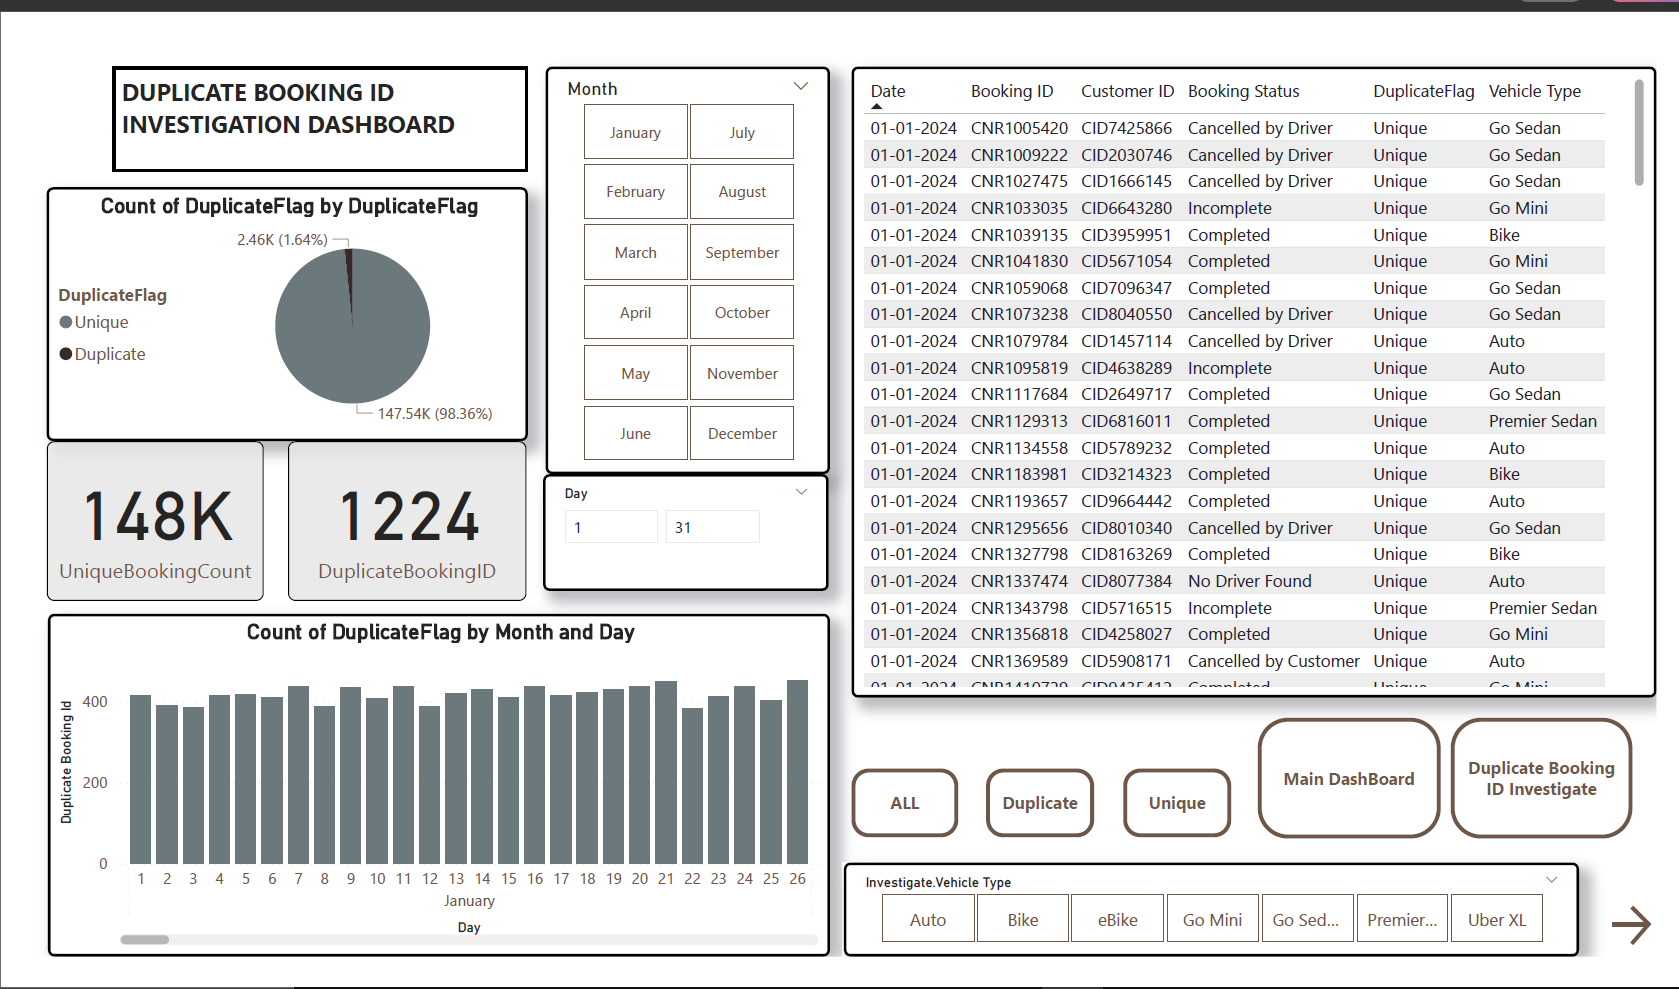

The dashboard page shown, as its layout file describes it:
{"tool":"powerbi","page":{"name":"Duplicate BookingID","canvas":[1280,720],"ordinal":5},"visuals":[{"type":"pieChart","fields":{"Category":["rideBookings.DuplicateFlag"],"Y":["CountNonNull(rideBookings.DuplicateFlag)"]},"box":[12.3,113.9,378.7,200.3],"z":0},{"type":"card","fields":{"Values":["rideBookings.DuplicateBookingID"]},"box":[201.7,314.2,188,126.2],"z":1000},{"type":"card","fields":{"Values":["rideBookings.UniqueBookingCount"]},"box":[12.3,314.2,170.2,126.2],"z":2000},{"type":"clusteredColumnChart","fields":{"Y":["CountNonNull(rideBookings.DuplicateFlag)"],"Category":["rideBookings.Date.Variation.Date Hierarchy.Month","rideBookings.Date.Variation.Date Hierarchy.Day"]},"box":[12.7,450.3,616.4,270.2],"z":3000},{"type":"slicer","fields":{"Values":["rideBookings.Date.Variation.Date Hierarchy.Month"]},"box":[404.6,19,224.5,320.9],"z":4000},{"type":"slicer","fields":{"Values":["rideBookings.Date.Variation.Date Hierarchy.Day1"]},"box":[403.4,340.3,225,91.9],"z":5000},{"type":"tableEx","title":"Main Dashboard Table","fields":{"Values":["rideBookings.Date","rideBookings.Booking ID","rideBookings.Customer ID","rideBookings.Booking Status","rideBookings.DuplicateFlag","rideBookings.Vehicle Type"]},"box":[645.6,19,634.2,497.2],"z":6000},{"type":"actionButton","box":[645.6,572.1,84.8,54.3],"z":7000},{"type":"actionButton","box":[751.9,572.1,84.8,54.3],"z":8000},{"type":"actionButton","box":[860.4,572.1,84.8,54.3],"z":9000},{"type":"slicer","fields":{"Values":["rideBookings.Vehicle Type"]},"box":[638.8,645.6,580,74.6],"z":10000},{"type":"actionButton","title":"Main Dashboard Button","box":[966,532.4,144.1,94.7],"z":12000},{"type":"actionButton","title":"Investigate Duplicate","box":[1118.4,532.4,142.7,94.7],"z":13000},{"type":"slicer","fields":{"Values":["BookingID Audit.Investigate.Vehicle Type"]},"box":[640,645.6,578.9,74.6],"z":15000},{"type":"actionButton","box":[1239.1,672.4,41.2,46.7],"z":16000},{"type":"textbox","box":[64.5,19.2,326.6,82.3],"z":17000}]}

Visuals, with their boxes on the page's 1280x720 design canvas (x1, y1, x2, y2). These are canvas units, not pixel positions in the 1679x989 screenshot, which may show the page scaled, cropped or inside an application window:
pieChart - rideBookings.DuplicateFlag x CountNonNull(rideBookings.DuplicateFlag): l=12, t=114, r=391, b=314
card - rideBookings.DuplicateBookingID: l=202, t=314, r=390, b=440
card - rideBookings.UniqueBookingCount: l=12, t=314, r=182, b=440
clusteredColumnChart - CountNonNull(rideBookings.DuplicateFlag) x rideBookings.Date.Variation.Date Hierarchy.Month: l=13, t=450, r=629, b=720
slicer - rideBookings.Date.Variation.Date Hierarchy.Month: l=405, t=19, r=629, b=340
slicer - rideBookings.Date.Variation.Date Hierarchy.Day1: l=403, t=340, r=628, b=432
"Main Dashboard Table" tableEx: l=646, t=19, r=1280, b=516
actionButton: l=646, t=572, r=730, b=626
actionButton: l=752, t=572, r=837, b=626
actionButton: l=860, t=572, r=945, b=626
slicer - rideBookings.Vehicle Type: l=639, t=646, r=1219, b=720
"Main Dashboard Button" actionButton: l=966, t=532, r=1110, b=627
"Investigate Duplicate" actionButton: l=1118, t=532, r=1261, b=627
slicer - BookingID Audit.Investigate.Vehicle Type: l=640, t=646, r=1219, b=720
actionButton: l=1239, t=672, r=1280, b=719
textbox: l=64, t=19, r=391, b=102
